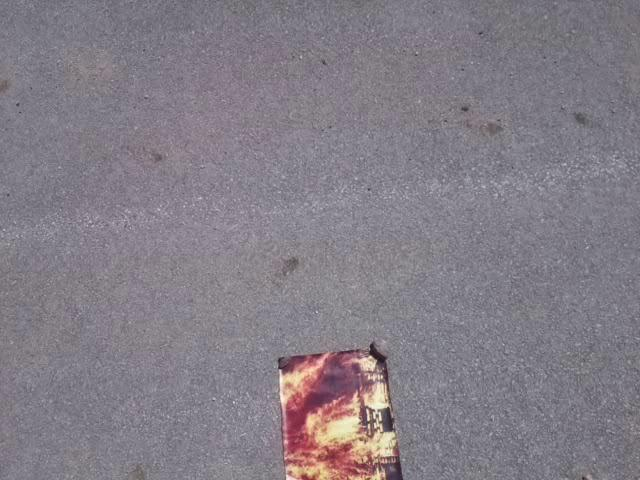fire-poster: (275, 341, 405, 479)
